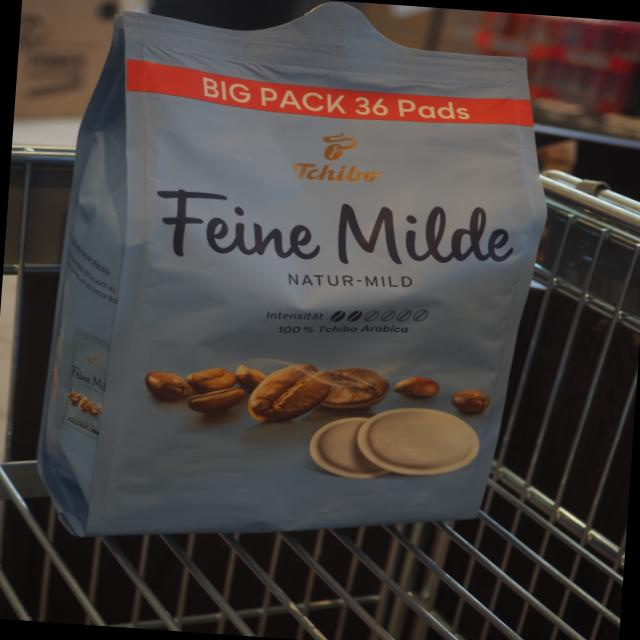FM 36 Pads: (19, 0, 569, 577)
